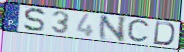3: (51, 10, 71, 35)
4: (75, 12, 96, 39)
C: (126, 18, 152, 44)
D: (152, 21, 176, 47)
N: (98, 15, 129, 43)
S: (23, 7, 47, 33)
